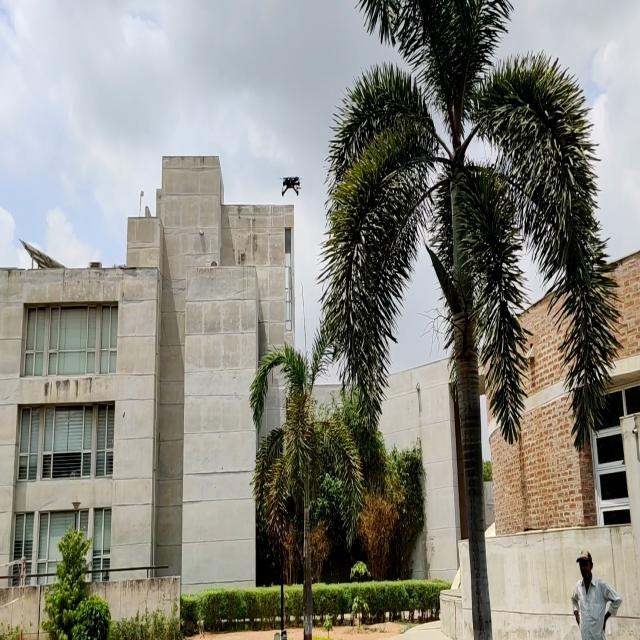drone: (274, 170, 306, 202)
